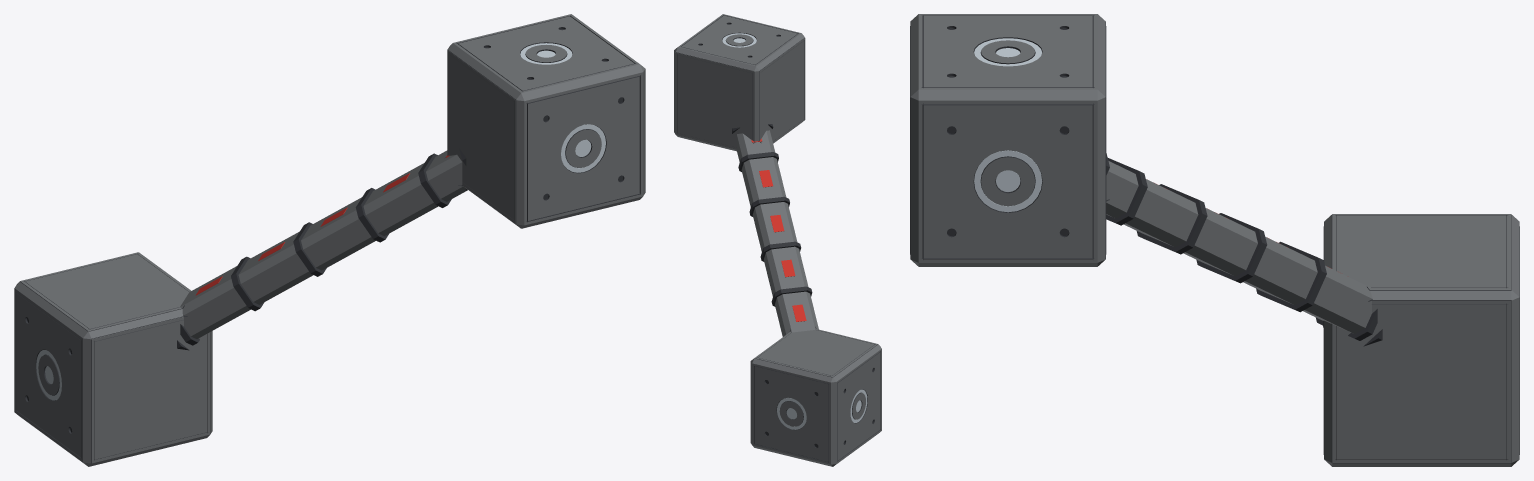
Rendered from R4C_STRUT_DIAG_3D.glb.
The picture shows the model from 3 angles, left to right: view 1: azimuth 30°, elevation 25°; view 2: azimuth 150°, elevation 25°; view 3: azimuth 270°, elevation 25°; orthographic projection. The views are drawn at different scales.
Parts seen in each view (by area): view 1: R4C_STRUT_DIAG_3D; view 2: R4C_STRUT_DIAG_3D; view 3: R4C_STRUT_DIAG_3D.
Boxes of the visible parts, x1,y1,x2,y2 form: R4C_STRUT_DIAG_3D: (14,14,645,466); R4C_STRUT_DIAG_3D: (674,14,881,466); R4C_STRUT_DIAG_3D: (910,14,1519,466).
Size of the model in its own units: 1.62 by 1.62 by 1.62.
